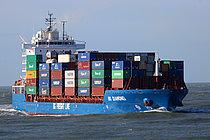Ship: (9, 7, 193, 119)
